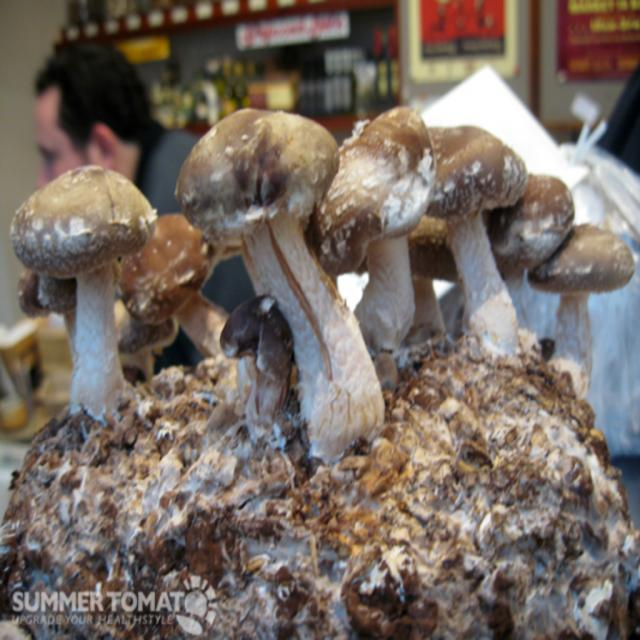Mushroom: (172, 101, 386, 470), (7, 164, 156, 422), (306, 99, 441, 355), (406, 166, 574, 342), (421, 122, 528, 363), (522, 219, 636, 402), (118, 208, 234, 362), (217, 291, 290, 448), (18, 258, 78, 370)
